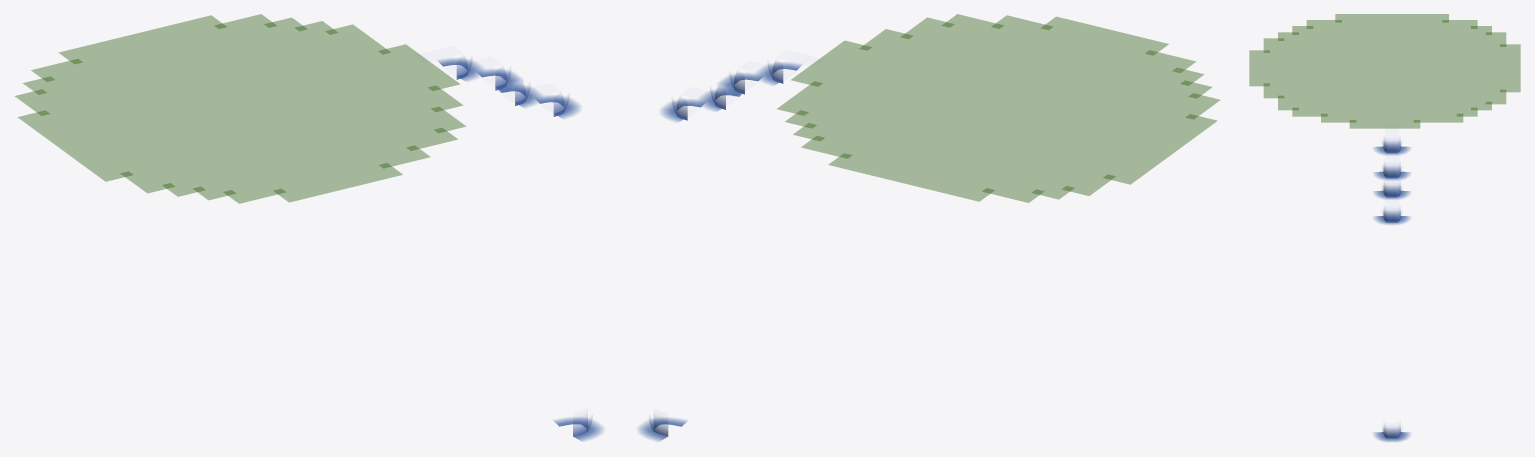
File: lave_du_cratere.glb
The picture shows the model from 3 angles, left to right: view 1: azimuth 30°, elevation 25°; view 2: azimuth 150°, elevation 25°; view 3: azimuth 270°, elevation 25°; orthographic projection. The views are drawn at different scales.
Visible parts, largest first — view 1: lave_du_cratere; view 2: lave_du_cratere; view 3: lave_du_cratere.
Boxes of the visible parts, x1=… form: lave_du_cratere: x1=15, y1=14, x2=603, y2=441; lave_du_cratere: x1=638, y1=14, x2=1219, y2=441; lave_du_cratere: x1=1249, y1=14, x2=1520, y2=441.
Bounding box in the file's own units: 27.85 × 20.15 × 18.9.
